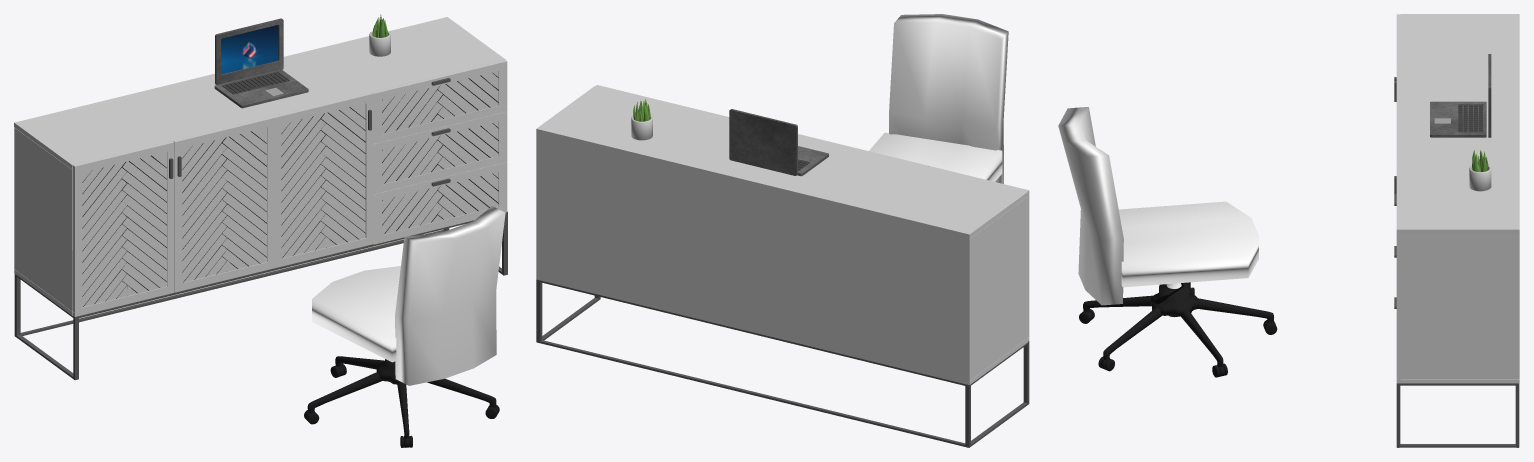
Rendered from aparador.gltf.
3 views of the same model, side by side, from view 1: azimuth 30°, elevation 25°; view 2: azimuth 150°, elevation 25°; view 3: azimuth 270°, elevation 25° (orthographic). The views are drawn at different scales.
Parts seen in each view (by area): view 1: Aparador, porta_esquerda, porta_meio, porta_direita, Cube.069, gaveta_cima, gaveta_meio, gaveta_baixo, Chair, Metal, Monitor, Cylinder.002 (+2 smaller); view 2: Aparador, Cube.069, Metal, Monitor, Chair, porta_esquerda, Base; view 3: Aparador, Chair, Cube.069, Cylinder.002, Base, Metal, Teclado, gaveta_cima, Plant.
Boxes of the visible parts, left/top/right/bottom form: Aparador: left=14, top=17, right=505, bottom=315; porta_esquerda: left=73, top=141, right=174, bottom=316; porta_meio: left=173, top=116, right=274, bottom=292; porta_direita: left=272, top=92, right=373, bottom=268; Cube.069: left=395, top=206, right=505, bottom=385; gaveta_cima: left=372, top=60, right=507, bottom=143; gaveta_meio: left=373, top=111, right=507, bottom=194; gaveta_baixo: left=373, top=162, right=507, bottom=244; Chair: left=312, top=266, right=400, bottom=362; Metal: left=14, top=211, right=507, bottom=380; Monitor: left=215, top=18, right=283, bottom=84; Cylinder.002: left=304, top=356, right=499, bottom=447; Aparador: left=536, top=86, right=1028, bottom=384; Cube.069: left=889, top=14, right=1008, bottom=183; Metal: left=536, top=279, right=1029, bottom=447; Monitor: left=729, top=109, right=797, bottom=175; Chair: left=869, top=132, right=1002, bottom=181; porta_esquerda: left=928, top=166, right=1029, bottom=341; Base: left=797, top=146, right=828, bottom=176; Aparador: left=1397, top=14, right=1519, bottom=383; Chair: left=1119, top=201, right=1258, bottom=287; Cube.069: left=1058, top=107, right=1123, bottom=305; Cylinder.002: left=1079, top=282, right=1277, bottom=377; Base: left=1430, top=101, right=1486, bottom=137; Metal: left=1396, top=383, right=1519, bottom=447; Teclado: left=1458, top=105, right=1482, bottom=132; gaveta_cima: left=1394, top=163, right=1400, bottom=280; Plant: left=1469, top=165, right=1491, bottom=191.
Bounding box in the file's own units: 1.8 × 1.06 × 1.63.
Materials: 14 (2 with a texture image).
